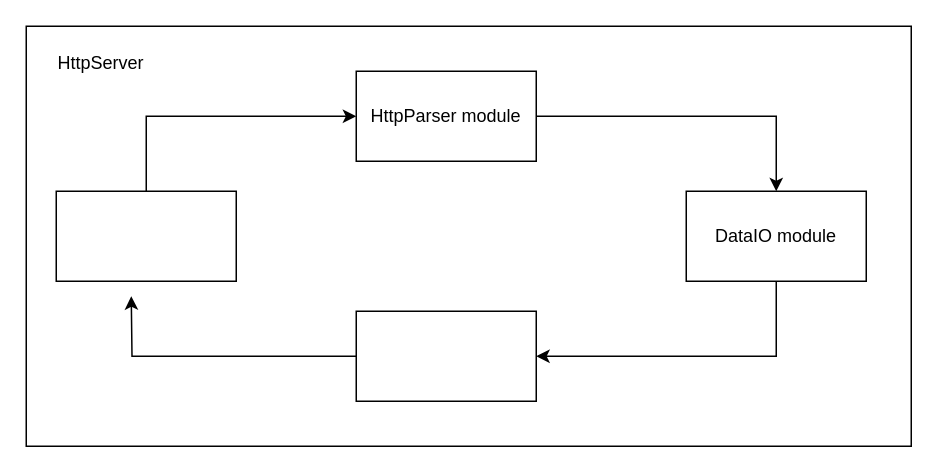
The diagram is 938 pixels wide and 473 high, and some of its shapes have lost their labels. The centre of each missing label's shape, as x and y in pixels:
"HttpBuilder Module" belongs at [445,355].
"NetworkIO module" belongs at [145,235].
